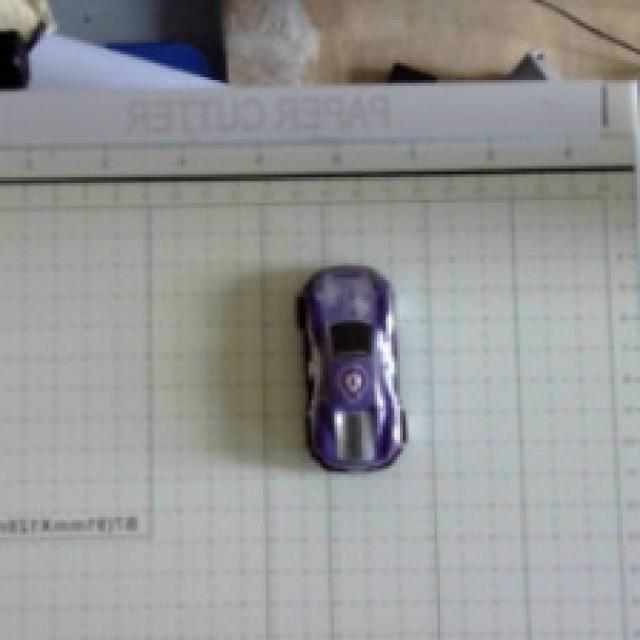Purple Car: (267, 225, 449, 521)
